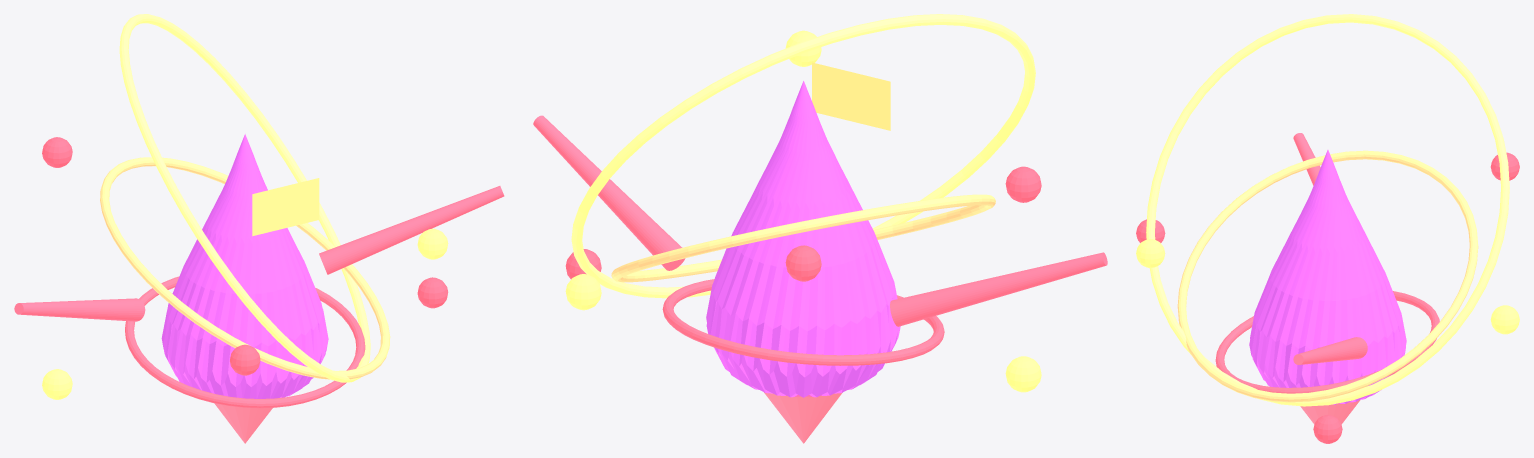
Rendered from local_minimum_boss.glb.
The picture shows the model from 3 angles, left to right: view 1: azimuth 30°, elevation 25°; view 2: azimuth 150°, elevation 25°; view 3: azimuth 270°, elevation 25°; orthographic projection. The views are drawn at different scales.
Parts seen in each view (by area): view 1: LocalMinimum_Body, ContourRing_2, ContourRing_1, ContourRing_0, GravityArm_R, FaceScreen, GravityArm_L, GravityIndicator, EnergyNode_0, EnergyNode_5, EnergyNode_4, EnergyNode_3 (+1 smaller); view 2: LocalMinimum_Body, ContourRing_2, ContourRing_1, GravityArm_L, ContourRing_0, FaceScreen, GravityArm_R, GravityIndicator, EnergyNode_2, EnergyNode_3, EnergyNode_1, EnergyNode_4 (+1 smaller); view 3: LocalMinimum_Body, ContourRing_2, ContourRing_1, ContourRing_0, GravityArm_R, GravityIndicator, EnergyNode_1, EnergyNode_0, EnergyNode_5, GravityArm_L, EnergyNode_2, EnergyNode_4.
Part boxes in pixels (x1,y1,x2,y2): LocalMinimum_Body: (161,134,328,398); ContourRing_2: (119,14,370,382); ContourRing_1: (100,157,390,379); ContourRing_0: (125,276,365,408); GravityArm_R: (319,186,504,274); FaceScreen: (252,178,319,236); GravityArm_L: (14,298,145,321); GravityIndicator: (214,403,272,443); EnergyNode_0: (417,277,448,308); EnergyNode_5: (417,228,448,259); EnergyNode_4: (230,344,260,375); EnergyNode_3: (42,369,72,399); LocalMinimum_Body: (706,81,900,397); ContourRing_2: (571,14,1035,298); ContourRing_1: (611,194,995,282); GravityArm_L: (890,252,1107,326); ContourRing_0: (662,279,944,365); FaceScreen: (812,62,890,130); GravityArm_R: (533,115,685,270); GravityIndicator: (764,392,841,443); EnergyNode_2: (785,245,821,281); EnergyNode_3: (1005,356,1041,392); EnergyNode_1: (565,274,601,310); EnergyNode_4: (1005,166,1041,202); LocalMinimum_Body: (1249,150,1406,404); ContourRing_2: (1146,14,1509,406); ContourRing_1: (1177,150,1478,402); ContourRing_0: (1215,291,1439,393); GravityArm_R: (1293,337,1367,364); GravityIndicator: (1300,400,1360,424); EnergyNode_1: (1490,305,1519,334); EnergyNode_0: (1313,414,1342,443); EnergyNode_5: (1136,239,1165,267); GravityArm_L: (1293,133,1320,185); EnergyNode_2: (1490,152,1519,180); EnergyNode_4: (1136,219,1165,242).
Bounding box in the file's own units: 7.28 × 5.76 × 5.25.
